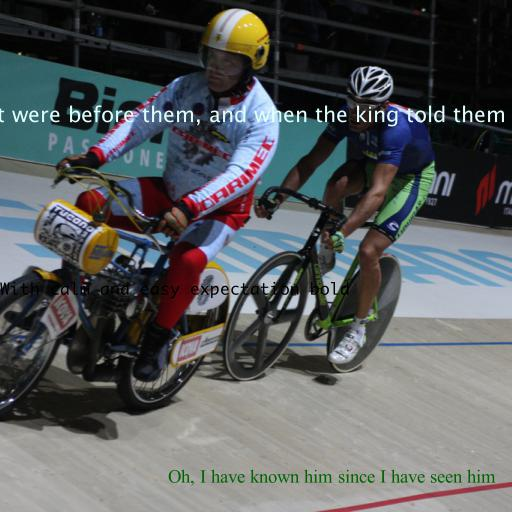Lucida Grande: (0, 105, 512, 127)
Monaco: (0, 281, 350, 299)
Times New Roman: (168, 469, 496, 486)
